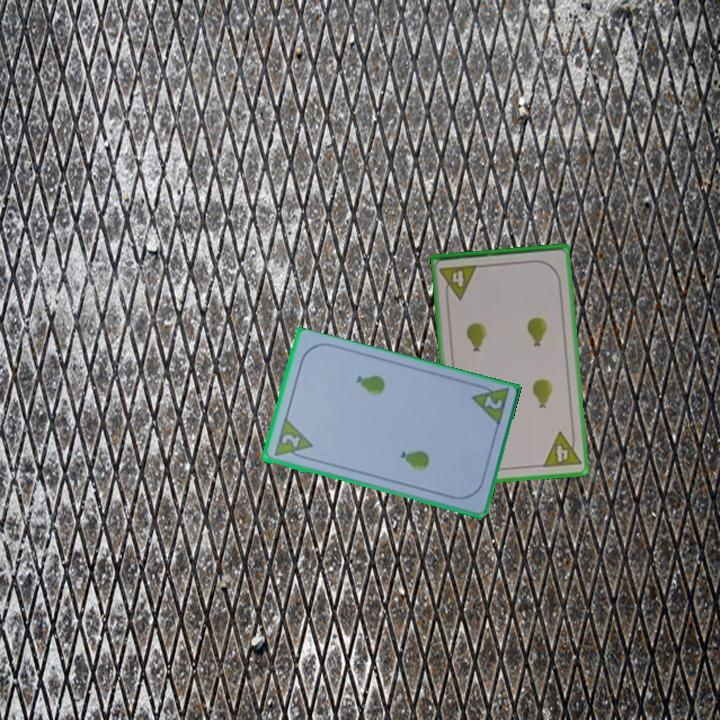2p: (270, 416, 315, 463), (480, 392, 505, 412)
4p: (539, 427, 584, 470), (436, 261, 481, 303)
